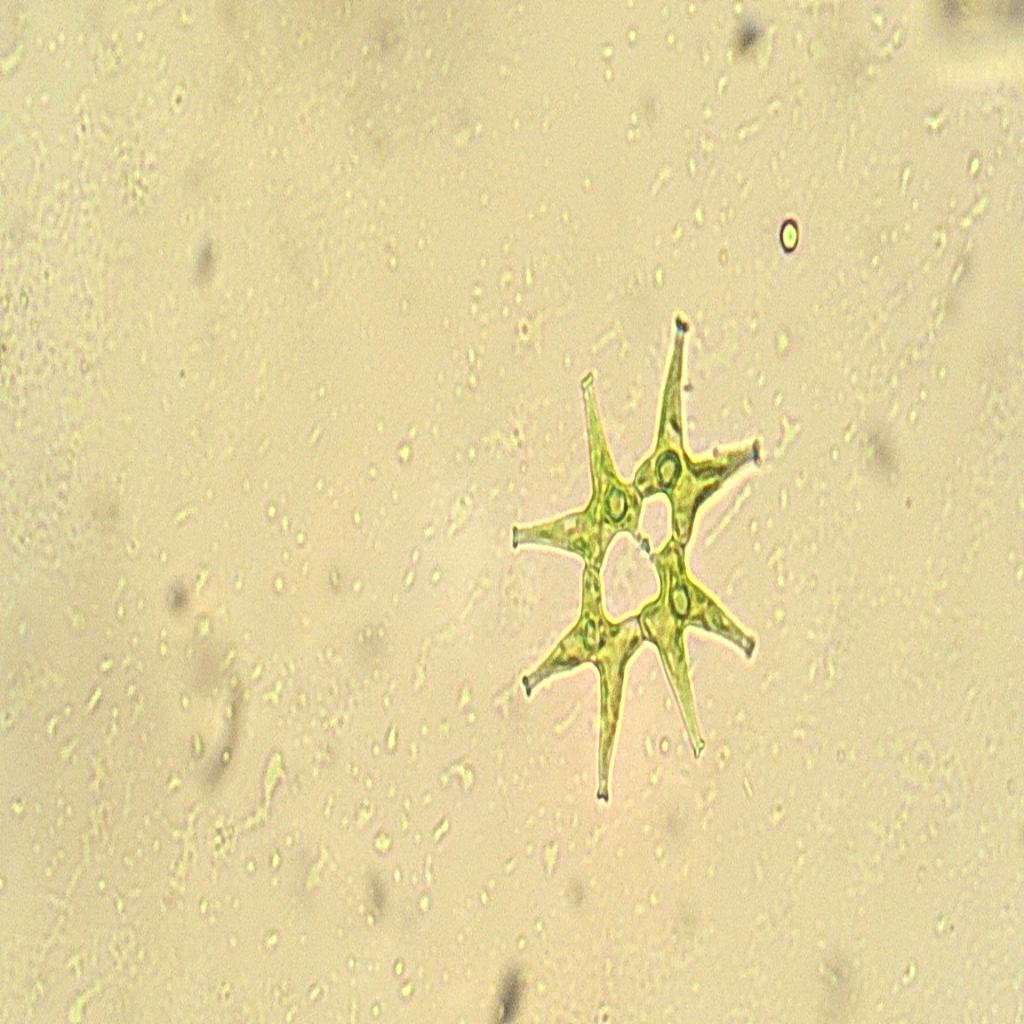Pediastrum_75FO: (500, 305, 783, 817)
